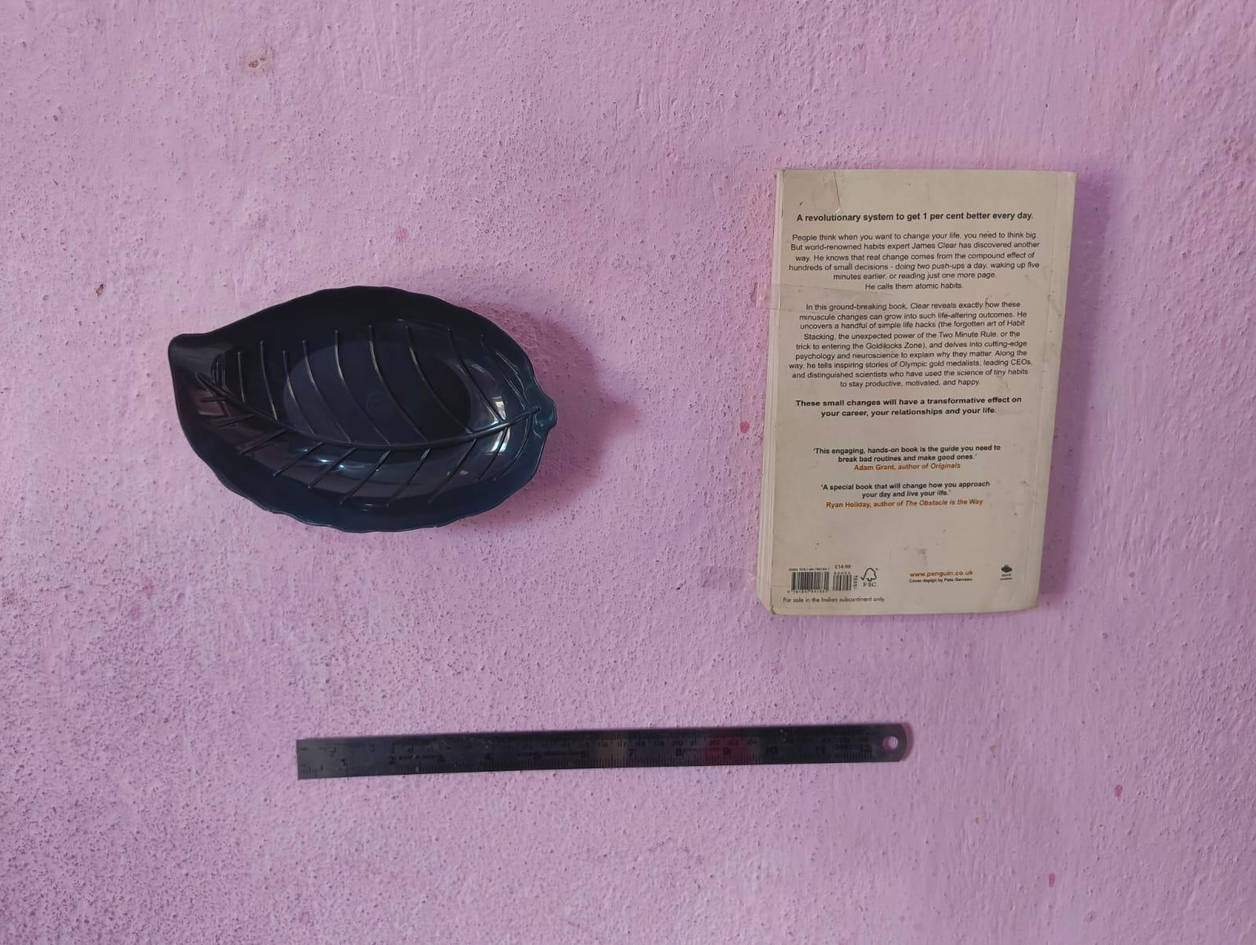Book: (758, 155, 1087, 624)
plate: (170, 280, 559, 543)
scale: (290, 713, 942, 793)
